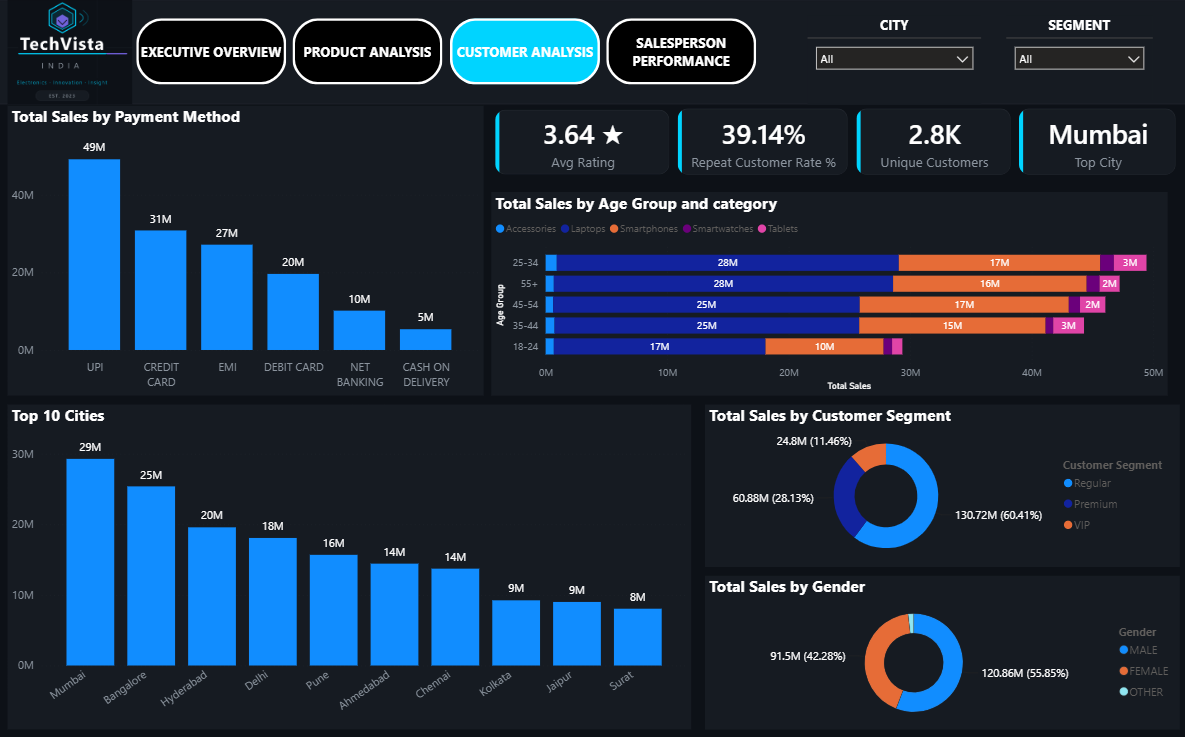

The page's visual inventory and layout, read from the dashboard file:
{"tool":"powerbi","page":{"name":"Customers","canvas":[1440,900],"ordinal":2},"visuals":[{"type":"cardVisual","fields":{"Data":["Count(dim_customers.customer_id)"]},"box":[1034.5,129.7,196,90.5],"z":0},{"type":"cardVisual","fields":{"Data":["dim_customers.Top City"]},"box":[1230.6,129.7,199.1,90.5],"z":1000},{"type":"cardVisual","fields":{"Data":["fact_sales.Repeat Customer Rate %"]},"box":[818.9,129.7,215.7,90.5],"z":2000},{"type":"cardVisual","fields":{"Data":["fact_sales.Avg Rating Display"]},"box":[598.7,131.2,220.2,89],"z":3000},{"type":"barChart","fields":{"Y":["fact_sales.Total Sales"],"Series":["dim_products.category"],"Category":["dim_customers.Age Group"]},"box":[598.7,235.3,815.9,245.8],"z":4000},{"type":"clusteredColumnChart","title":"Top 10 Cities","fields":{"Y":["fact_sales.Total Sales"],"Category":["dim_customers.city"]},"box":[15.1,491.6,824.9,392.1],"z":5000},{"type":"donutChart","fields":{"Y":["fact_sales.Total Sales"],"Category":["dim_customers.customer_segment"]},"box":[856.6,491.6,573.1,196],"z":6000},{"type":"donutChart","fields":{"Y":["fact_sales.Total Sales"],"Category":["dim_customers.gender"]},"box":[856.6,698.2,573.1,185.5],"z":7000},{"type":"clusteredColumnChart","title":"Total Sales by Payment Method","fields":{"Y":["fact_sales.Total Sales"],"Category":["fact_sales.payment_method"]},"box":[15.1,131.2,574.6,349.9],"z":8000},{"type":"shape","box":[0,3,1440.2,126.7],"z":9000},{"type":"image","box":[1.5,0,177.9,129.7],"z":10000},{"type":"actionButton","box":[170.2,24.9,181,79.9],"z":11000},{"type":"actionButton","box":[359.2,24.9,181,79.9],"z":12000},{"type":"actionButton","box":[548.2,24.9,181,79.9],"z":13000},{"type":"actionButton","box":[737.2,24.9,181,79.9],"z":14000},{"type":"slicer","title":"CITY","fields":{"Values":["dim_customers.city"]},"box":[980.2,22.6,209.6,107.1],"z":15000},{"type":"slicer","title":"SEGMENT","fields":{"Values":["dim_customers.customer_segment"]},"box":[1220,22.6,176.4,102.5],"z":16000}]}

Visuals, with their boxes in screenshot pixels (x1, y1, x2, y2), scaled from the page's 1440x900 canvas onto the 1185x737 screenshot:
cardVisual - Count(dim_customers.customer_id): left=851, top=106, right=1013, bottom=180
cardVisual - dim_customers.Top City: left=1013, top=106, right=1177, bottom=180
cardVisual - fact_sales.Repeat Customer Rate %: left=674, top=106, right=851, bottom=180
cardVisual - fact_sales.Avg Rating Display: left=493, top=107, right=674, bottom=180
barChart - fact_sales.Total Sales x dim_products.category: left=493, top=193, right=1164, bottom=394
"Top 10 Cities" clusteredColumnChart: left=12, top=403, right=691, bottom=724
donutChart - fact_sales.Total Sales x dim_customers.customer_segment: left=705, top=403, right=1177, bottom=563
donutChart - fact_sales.Total Sales x dim_customers.gender: left=705, top=572, right=1177, bottom=724
"Total Sales by Payment Method" clusteredColumnChart: left=12, top=107, right=485, bottom=394
shape: left=0, top=2, right=1184, bottom=106
image: left=1, top=0, right=148, bottom=106
actionButton: left=140, top=20, right=289, bottom=86
actionButton: left=296, top=20, right=445, bottom=86
actionButton: left=451, top=20, right=600, bottom=86
actionButton: left=607, top=20, right=756, bottom=86
"CITY" slicer: left=807, top=19, right=979, bottom=106
"SEGMENT" slicer: left=1004, top=19, right=1149, bottom=102
